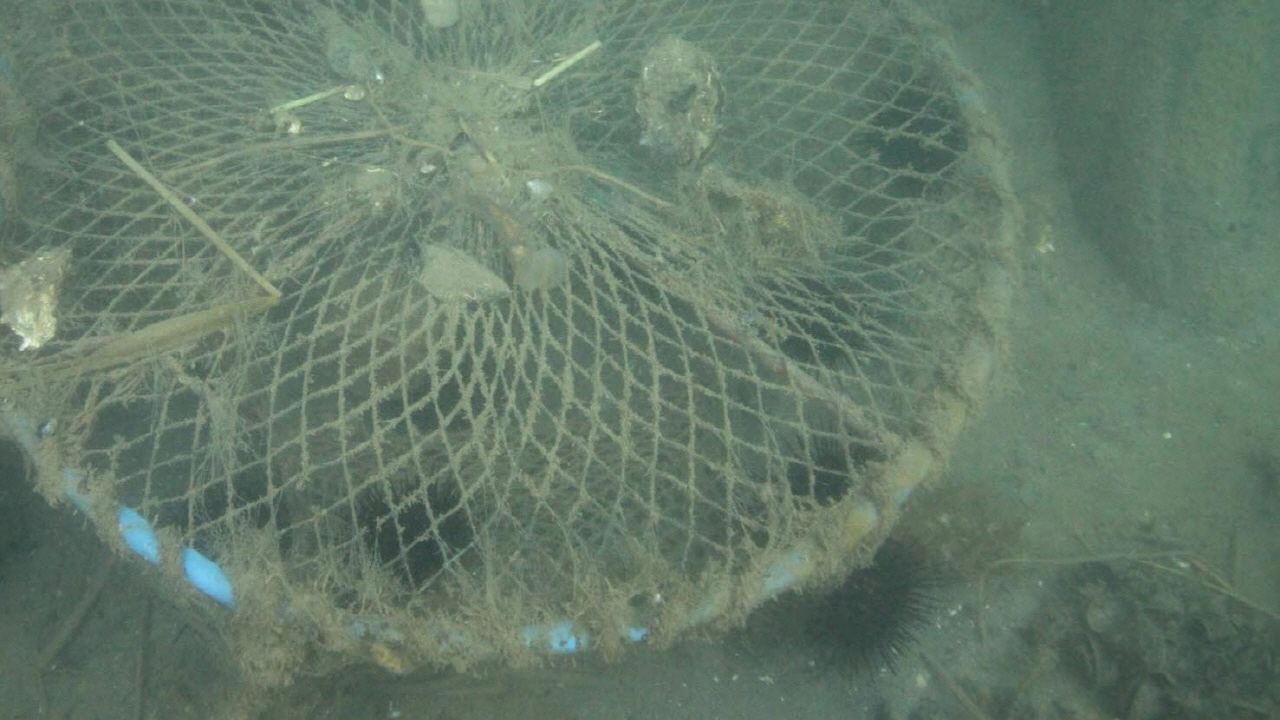circular fish trap: (0, 0, 1022, 657)
